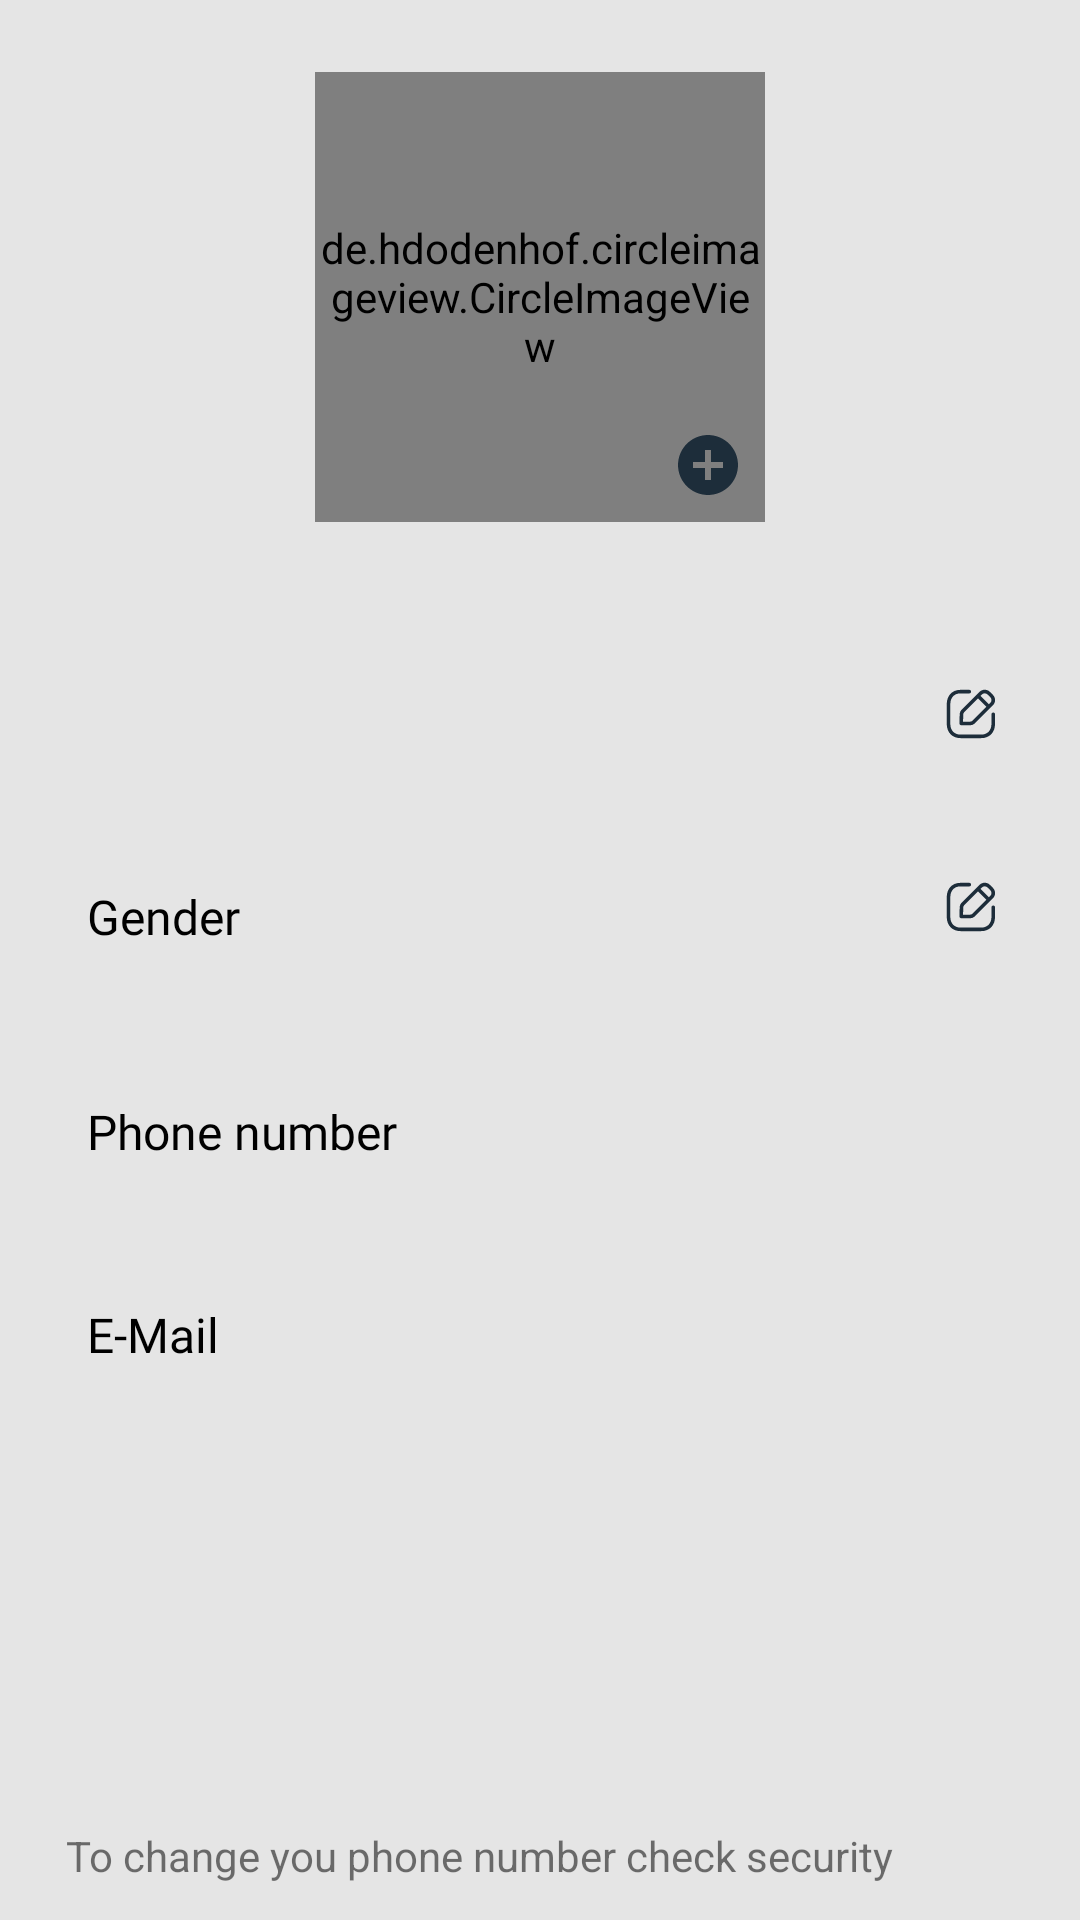

Icons on this 1080×1920 Android screen, each with its box as box=[x1, y1, x2, y2]:
add circle: box=[678, 435, 738, 495]
edit square: box=[946, 689, 995, 739], box=[946, 882, 995, 932]
